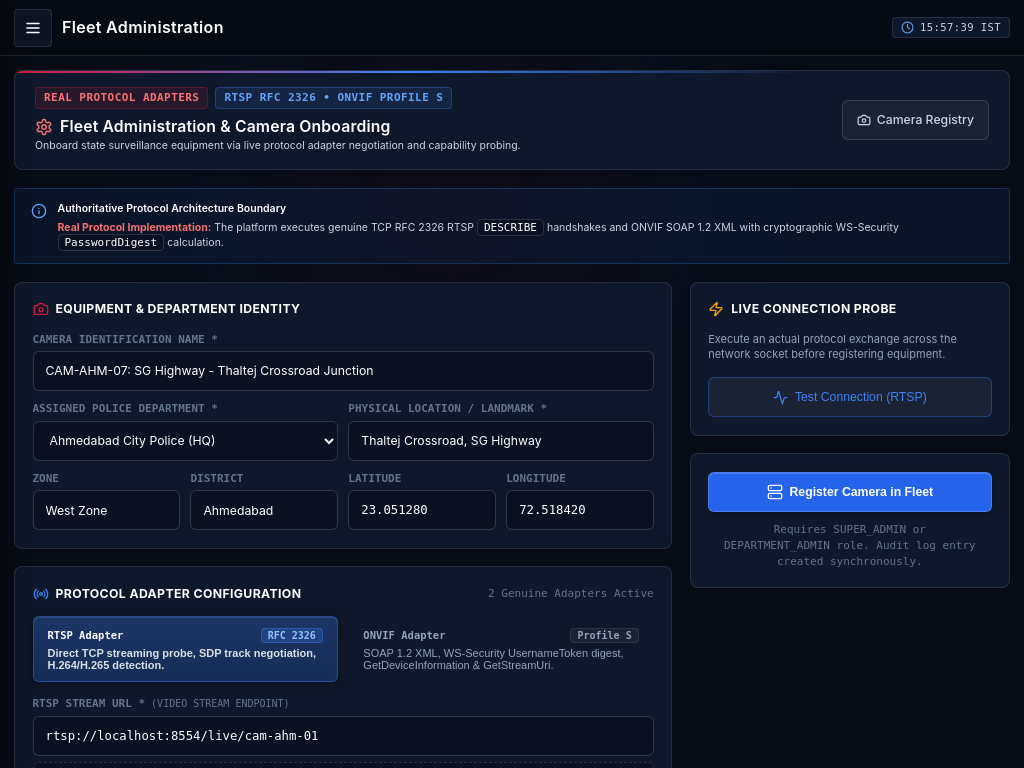
it: Fleet Administration & Camera Onboarding UI (Phase 4F) › submits camera onboarding form with canonical department UUID and renders success notification
Click the button "Register Camera in Fleet" at (850, 492), box [708,472,992,512]
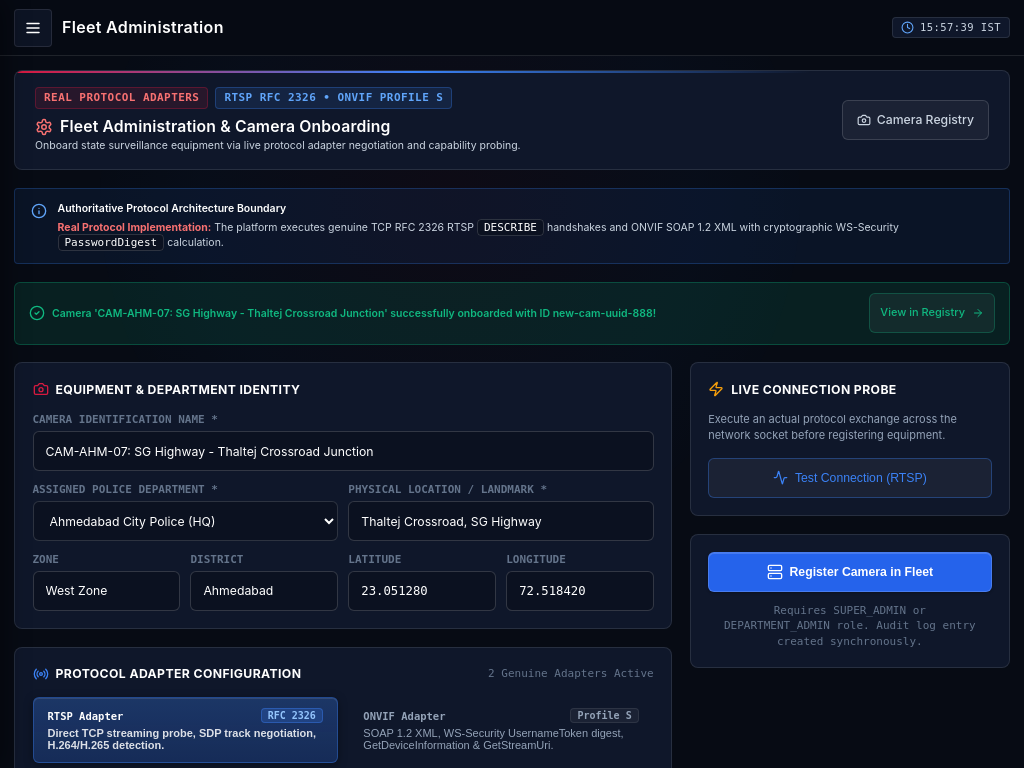
Expected: the text "successfully onboarded with ID new-cam-uuid-888" is shown, [52,307,656,320]
